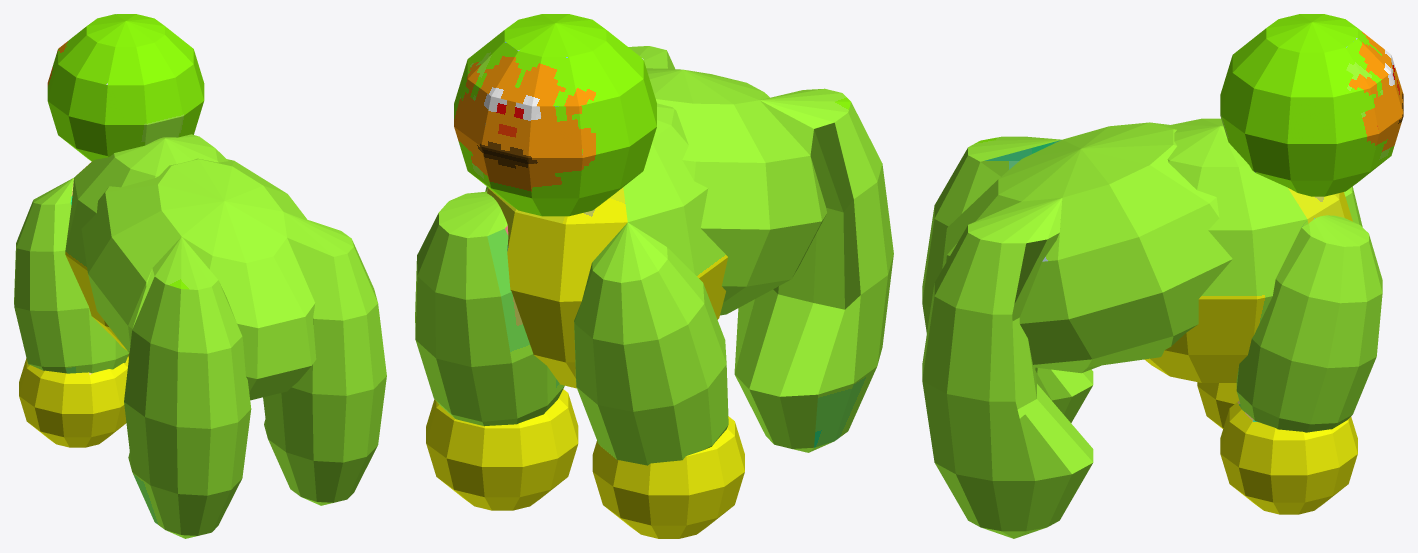
File: glowrilla.gltf
3 views of the same model, side by side, from view 1: azimuth 30°, elevation 25°; view 2: azimuth 150°, elevation 25°; view 3: azimuth 270°, elevation 25° (orthographic). The views are drawn at different scales.
Parts seen in each view (by area): view 1: sphere (×7); view 2: sphere (×9); view 3: sphere (×8).
Boxes of the visible parts, bbox=[...] form: sphere (×7): bbox=[14, 14, 386, 538]; sphere (×9): bbox=[415, 14, 893, 538]; sphere (×8): bbox=[922, 14, 1403, 538].
Size of the model in its own units: 0.875 by 1.44 by 1.31.
9 materials, 9 textured.
